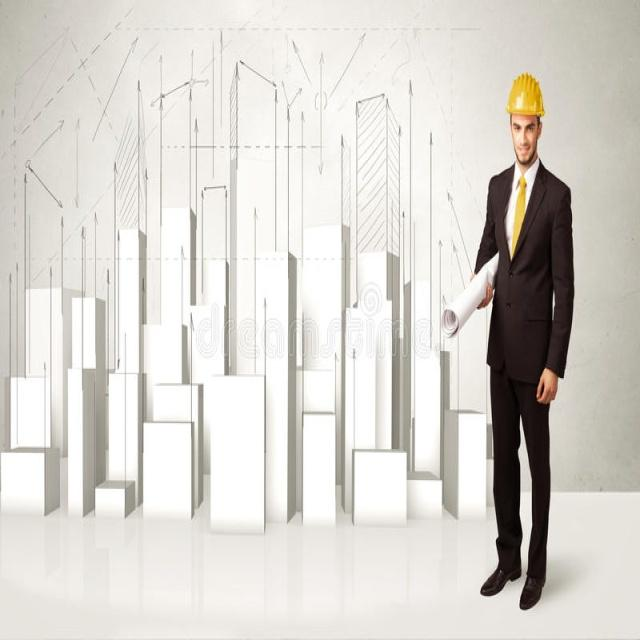helmet: (507, 99, 545, 217)
